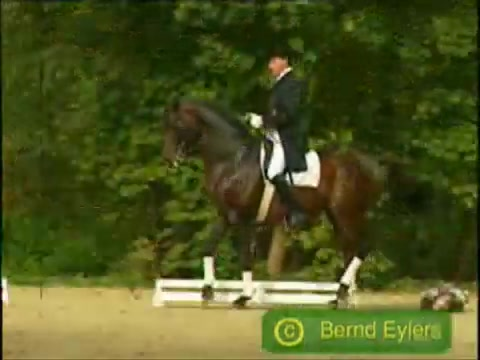horse: (161, 98, 390, 310)
